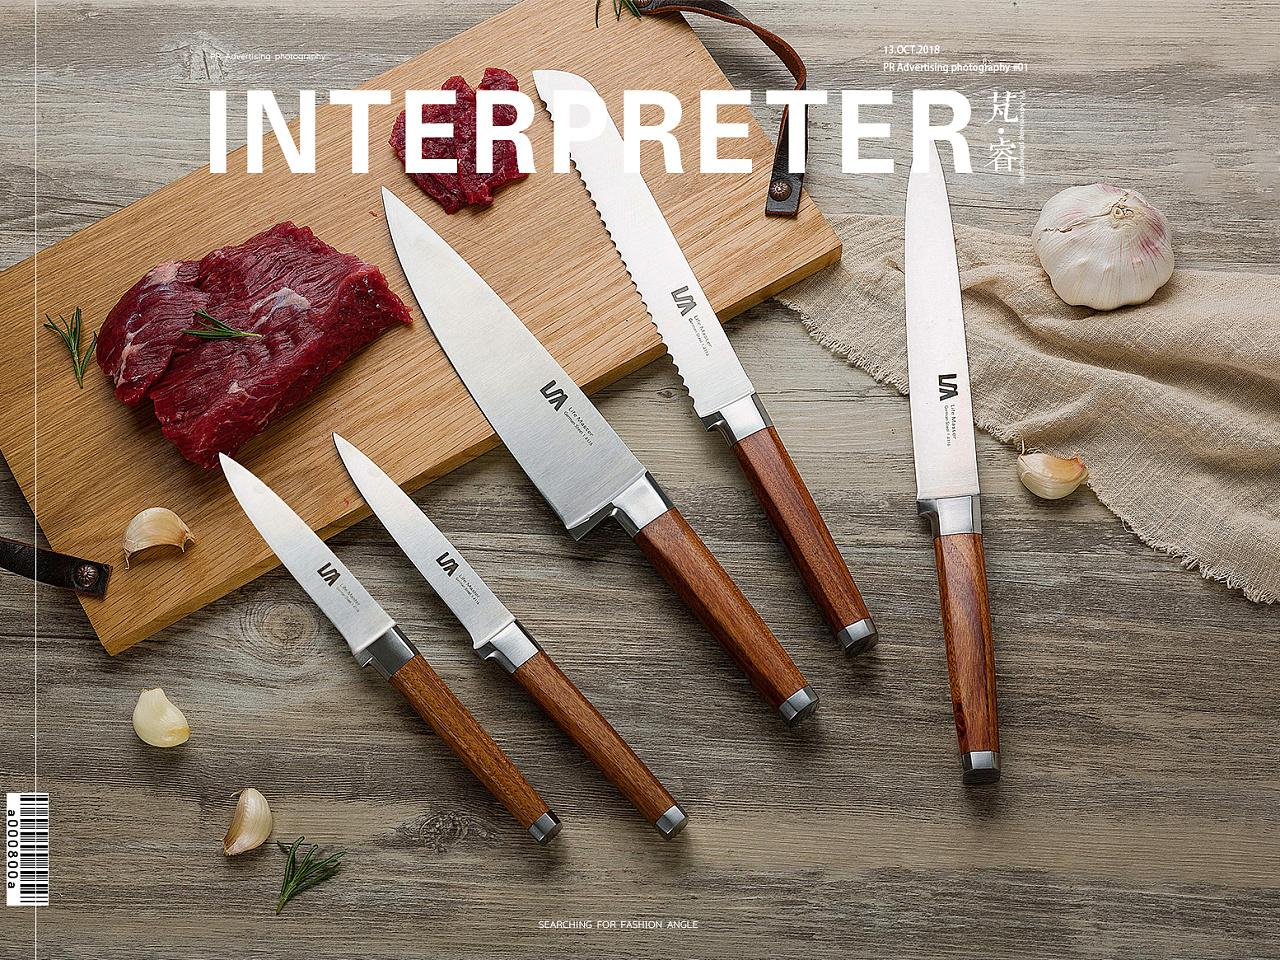knife: (87, 51, 1029, 864)
